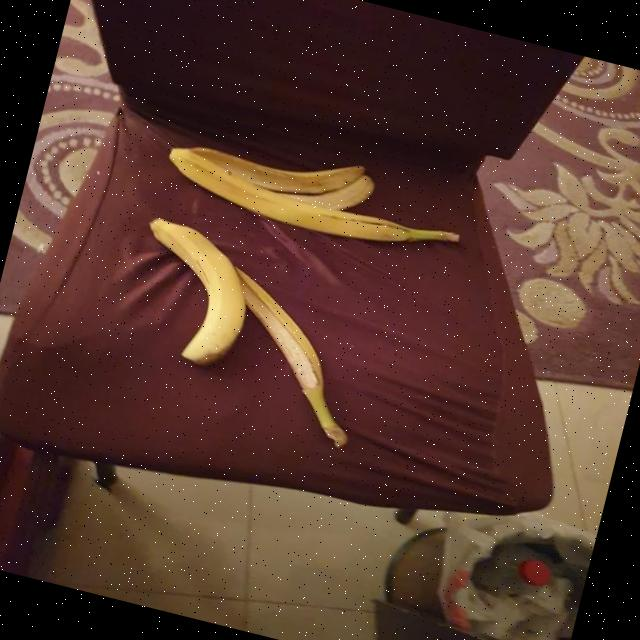banana-peel: (106, 212, 390, 450), (157, 118, 472, 266), (117, 213, 263, 373)
